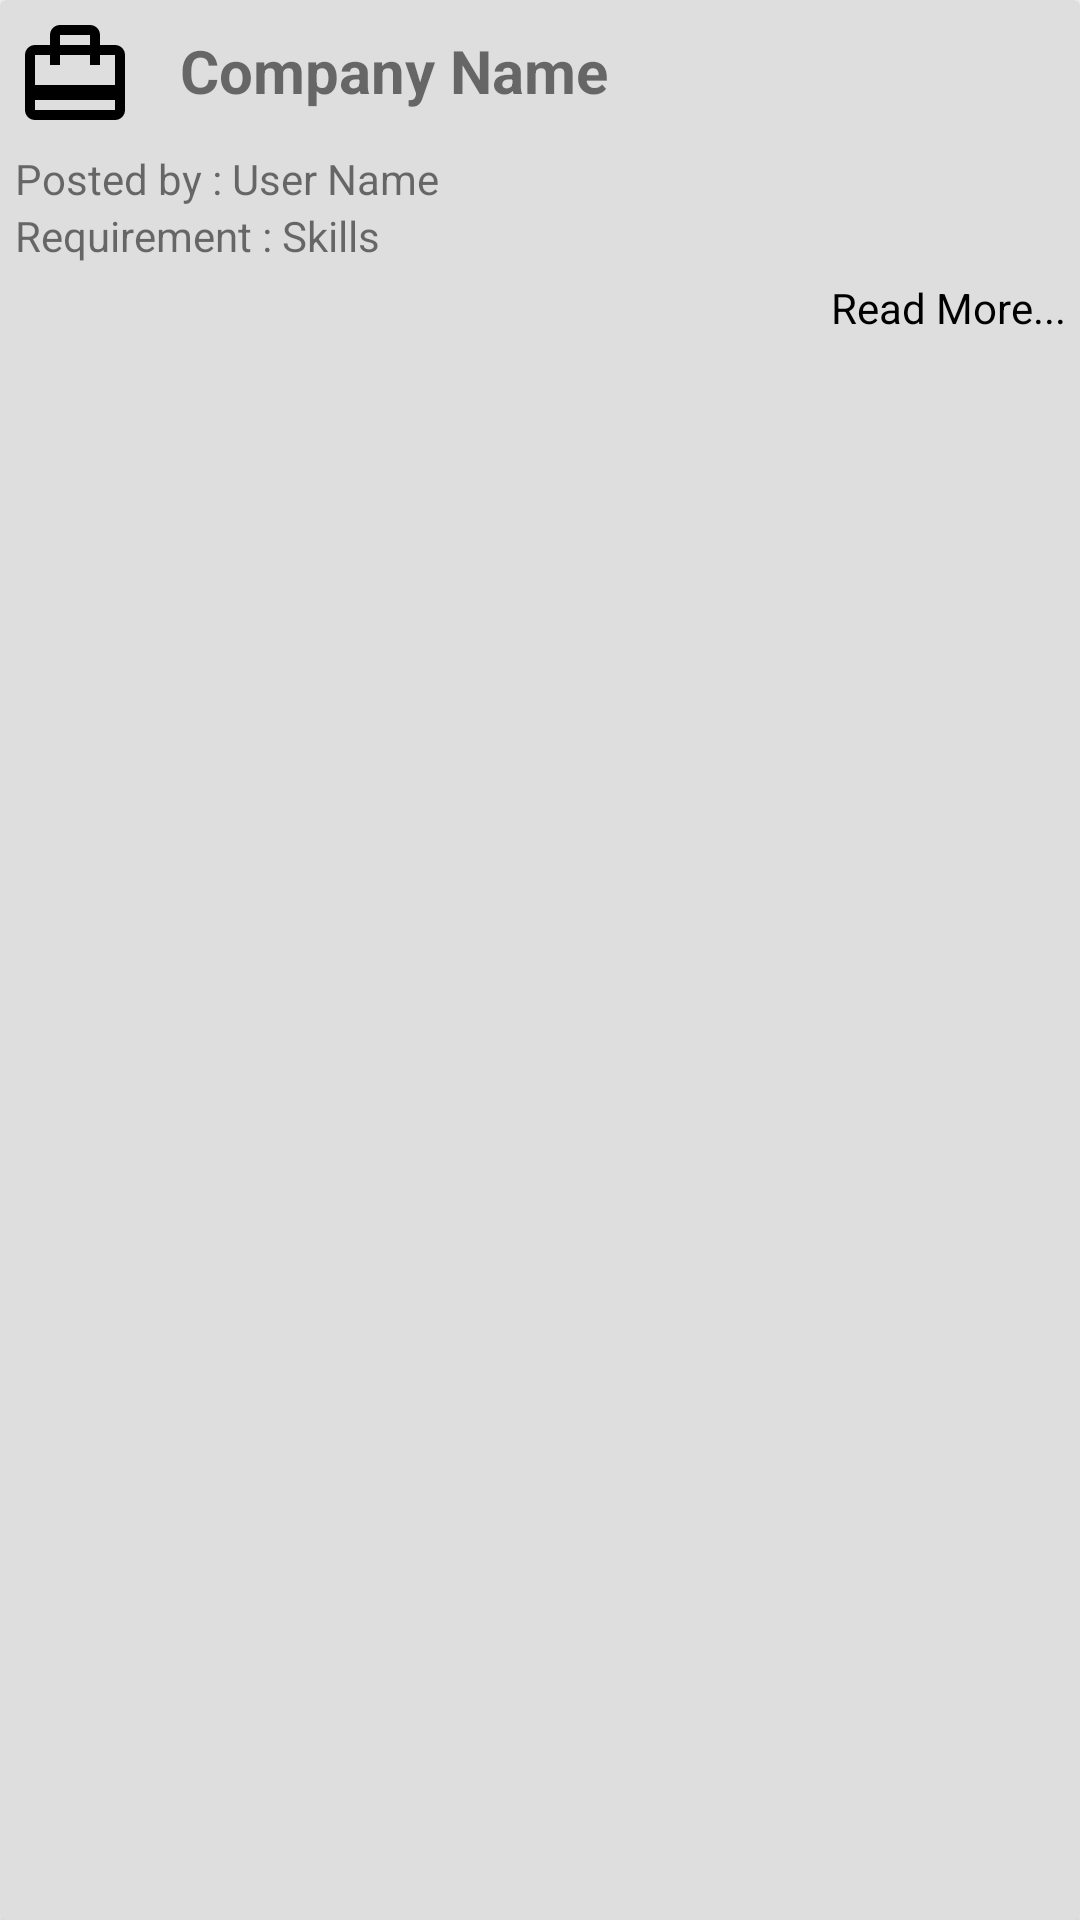

Named icons in this screenshot (1080w x 1920h) and their bounding boxes, Rect(x1, y1, x2, y2):
job: Rect(25, 25, 125, 120)
